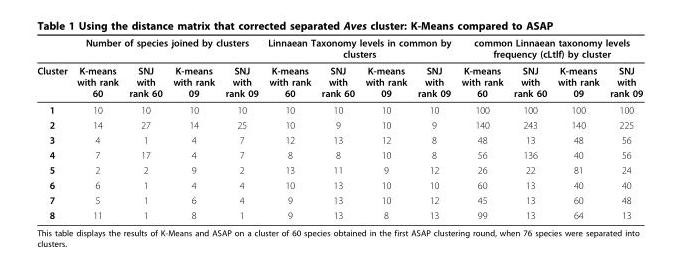table: (36, 36, 642, 220)
table column: (262, 36, 315, 220), (71, 36, 123, 220), (167, 36, 219, 220), (359, 36, 411, 220), (455, 36, 507, 220), (551, 36, 603, 220), (123, 36, 167, 220), (315, 36, 359, 220), (411, 36, 455, 220), (507, 36, 551, 220), (219, 36, 262, 220), (603, 36, 642, 220), (36, 36, 71, 220)
table column header: (36, 36, 642, 101)
table row: (36, 61, 642, 101), (36, 36, 642, 61), (36, 116, 642, 132), (36, 101, 642, 116), (36, 132, 642, 147), (36, 147, 642, 162), (36, 162, 642, 177), (36, 177, 642, 192), (36, 192, 642, 207), (36, 207, 642, 220)
table spanning cell: (262, 36, 455, 61), (71, 36, 262, 61), (455, 36, 642, 61), (36, 36, 71, 101)
